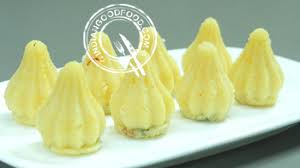modak: (178, 9, 289, 120), (5, 39, 106, 159), (79, 29, 178, 137)
